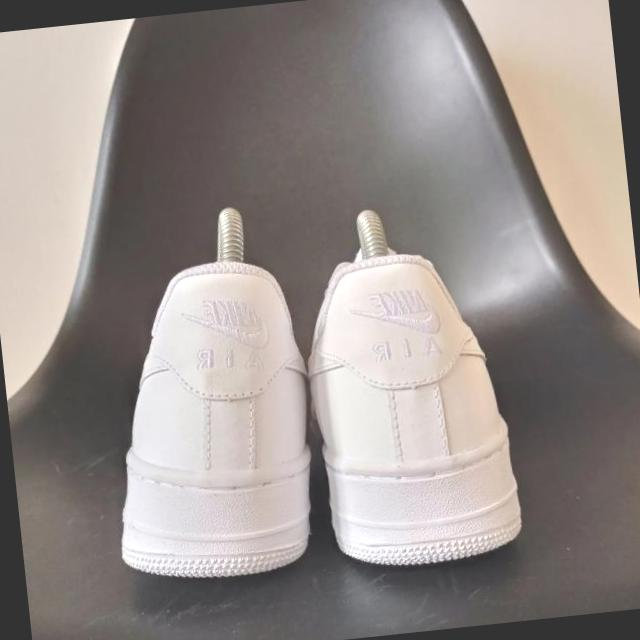nike_fake_airforce: (288, 236, 524, 582), (91, 252, 332, 588)
